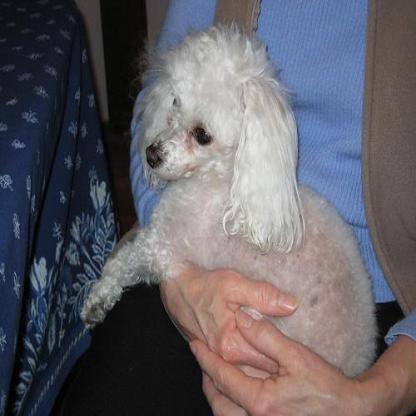toy_poodle: (79, 22, 376, 378)
